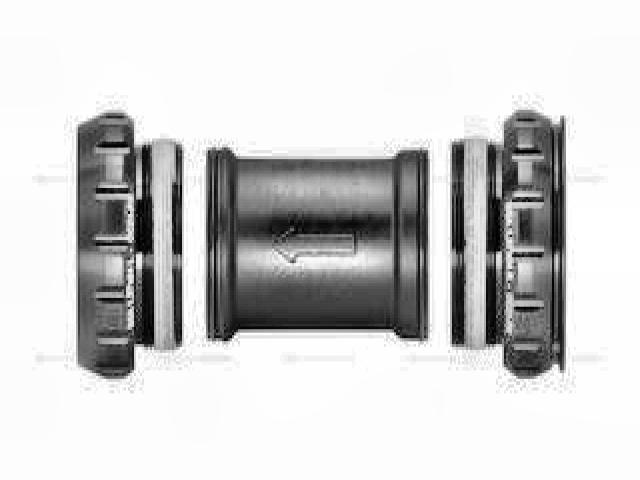bottom_bracket: (70, 107, 570, 382)
